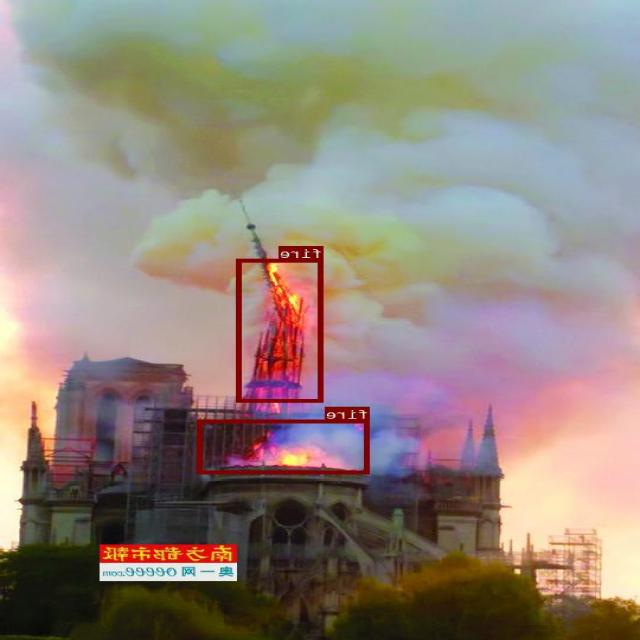fire: (238, 258, 324, 402), (199, 419, 370, 474)
